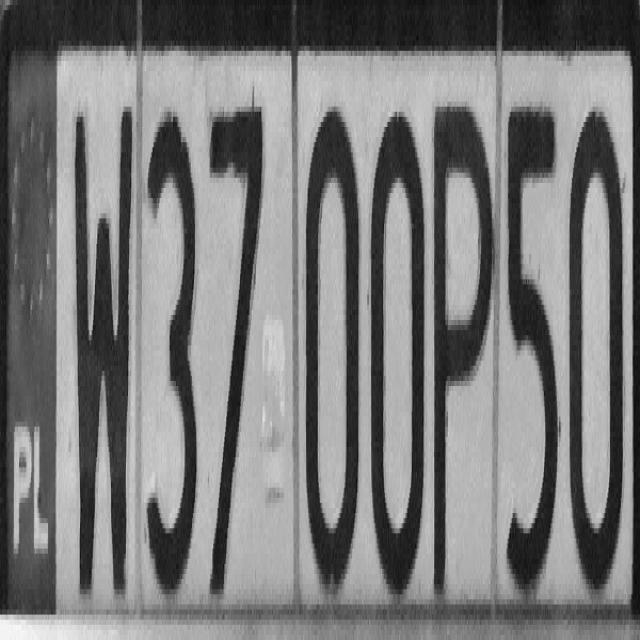License_Plate: (7, 51, 631, 600)
